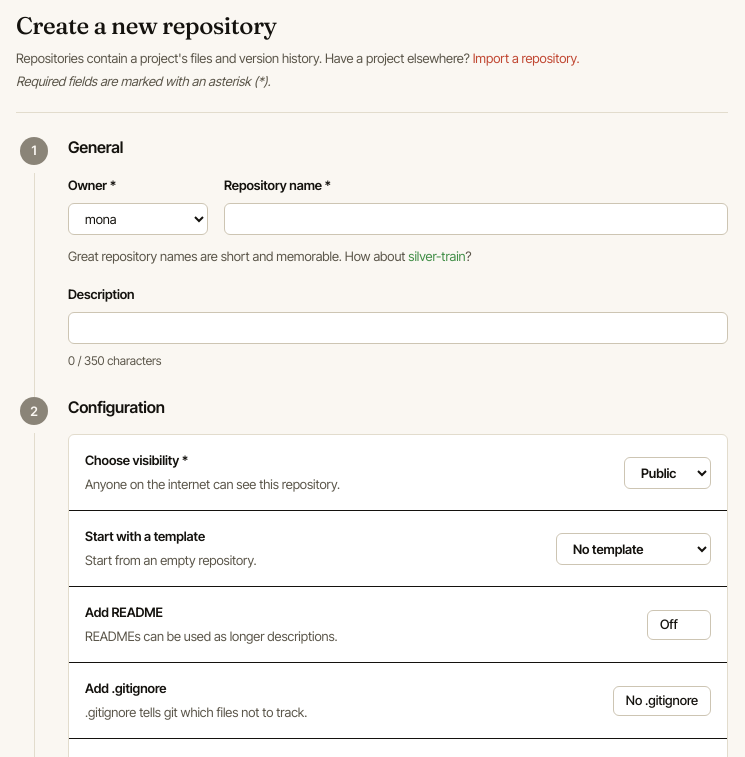
Test: RepositoryCreateForm › normalizes spaces and punctuation, fills suggested names, and reports availability
The image size is (745, 757).
Type "my new!! repo" into the field labelled "Repository name *".
click(476, 219); type("my new!! repo")  # box top-left (224, 203), bottom-right (728, 235)
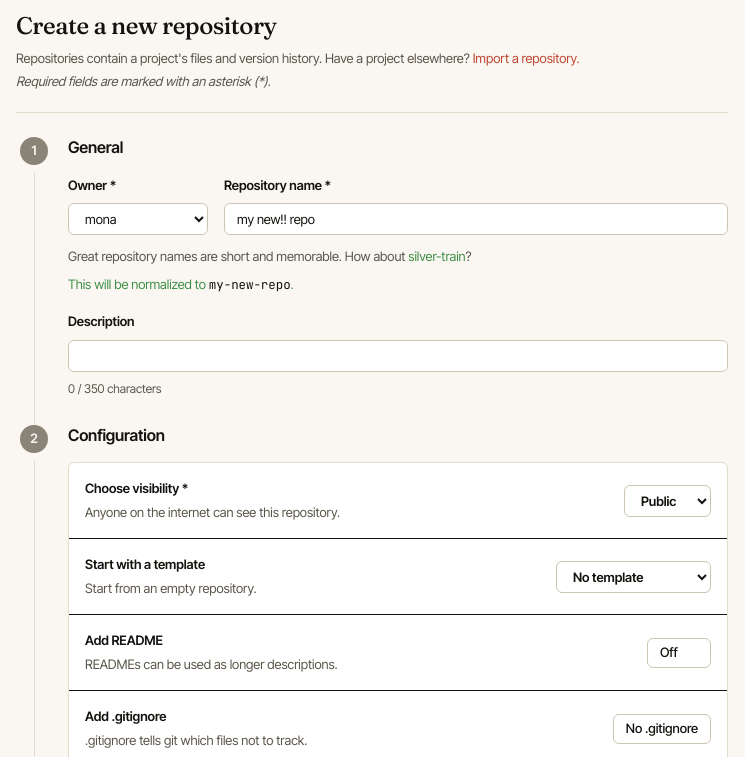
Expected: the text "This will be normalized to my-new-repo." is shown, top-left (68, 276), bottom-right (294, 293)
Click the button "silver-train".
click(437, 257)  # box top-left (408, 247), bottom-right (466, 267)
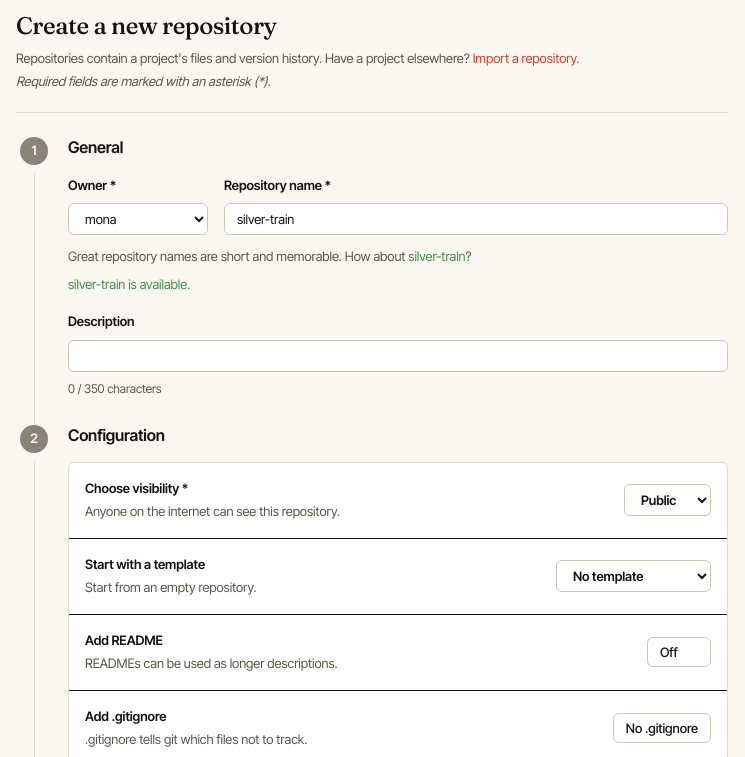
Expected: the text "silver-train is available." is shown, top-left (68, 276), bottom-right (190, 292)
